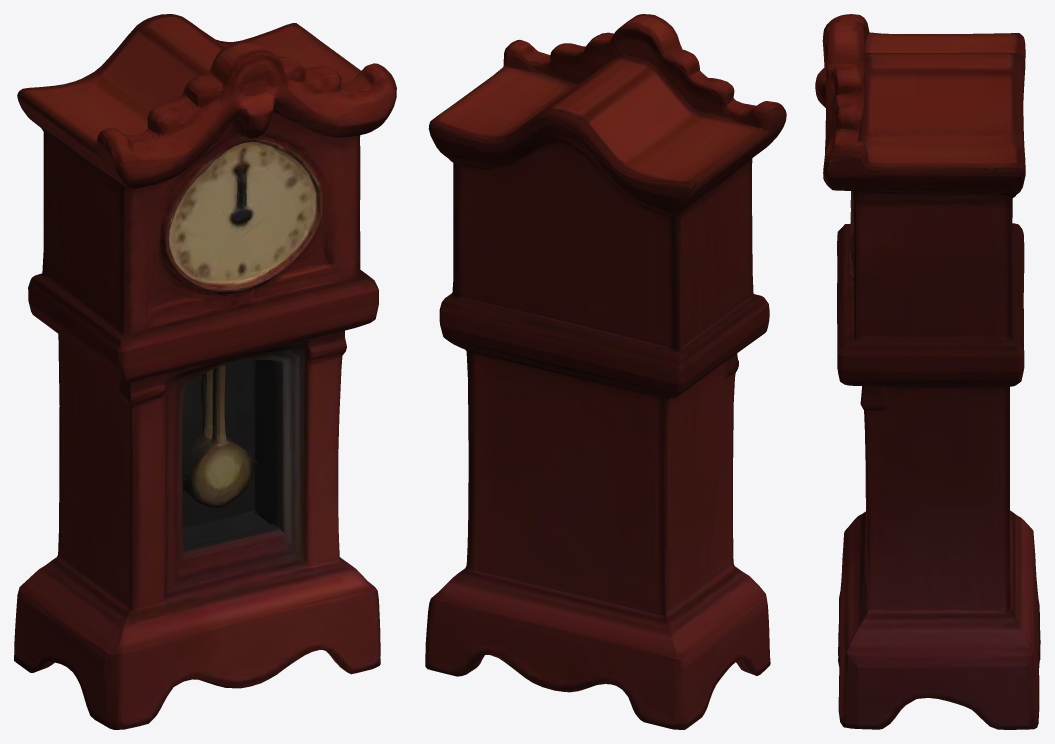
File: grandfather_clock.glb
The picture shows the model from 3 angles, left to right: view 1: azimuth 30°, elevation 25°; view 2: azimuth 150°, elevation 25°; view 3: azimuth 270°, elevation 25°; orthographic projection. The views are drawn at different scales.
Visible parts, largest first — view 1: world.001; view 2: world.001; view 3: world.001.
Boxes of the visible parts, x1,y1,x2,y2 form: world.001: (14, 14, 396, 729); world.001: (425, 14, 786, 729); world.001: (815, 14, 1040, 729).
Size of the model in its own units: 0.4597 by 1 by 0.3195.
Materials: 1 (1 with a texture image).
